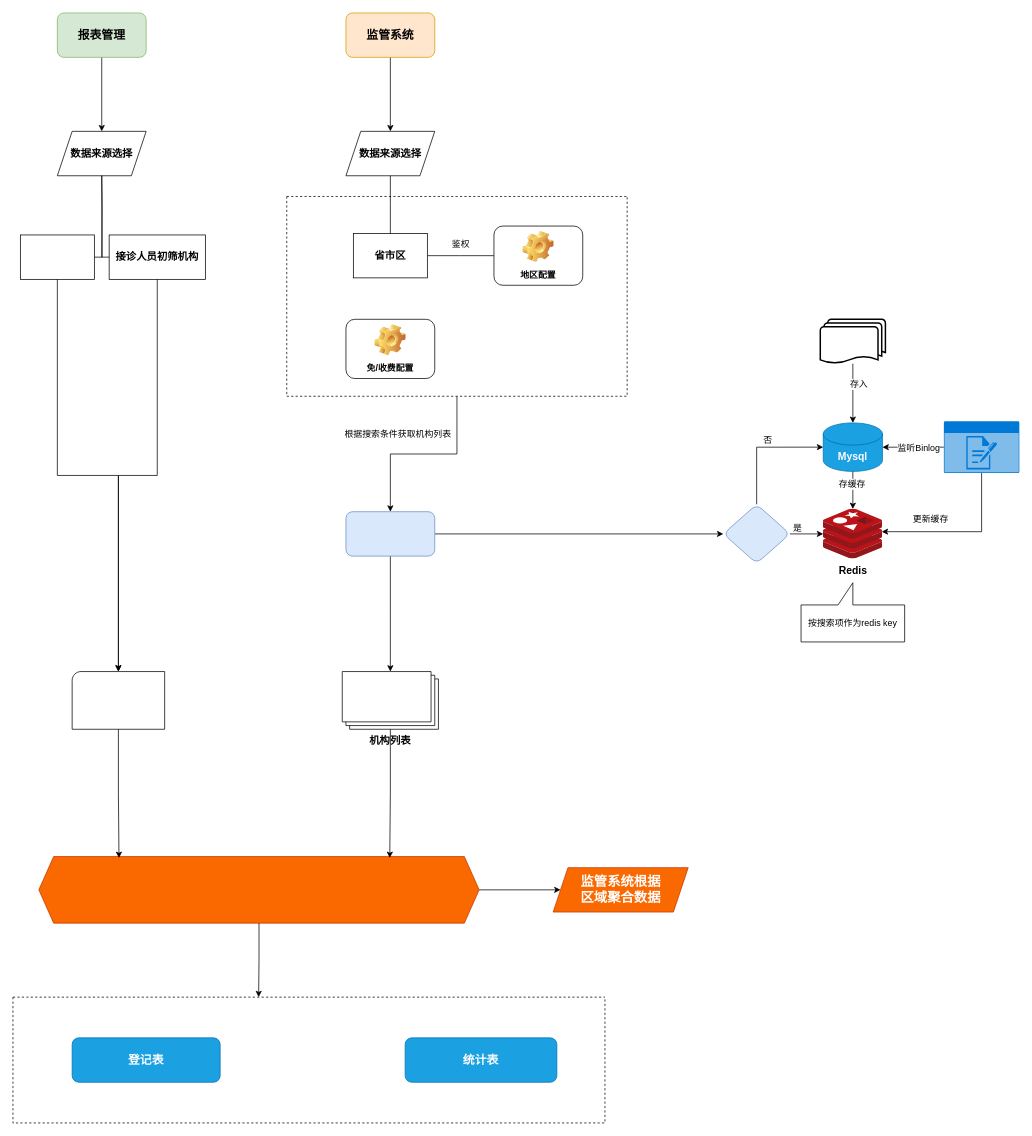
Image size: 1032x1136. Some labels were removed from this diagram. Here are the shapes that lost their labels. From the top down, the box of each, then its label:
(20, 234, 94, 279): 本机构登记
(819, 318, 886, 364): 机构修改
(944, 421, 1019, 473): Canal
(345, 511, 435, 556): 获取机构 列表接口
(723, 504, 790, 564): 是否缓存
(71, 671, 165, 729): 指定机构
(38, 856, 479, 923): 统计服务
